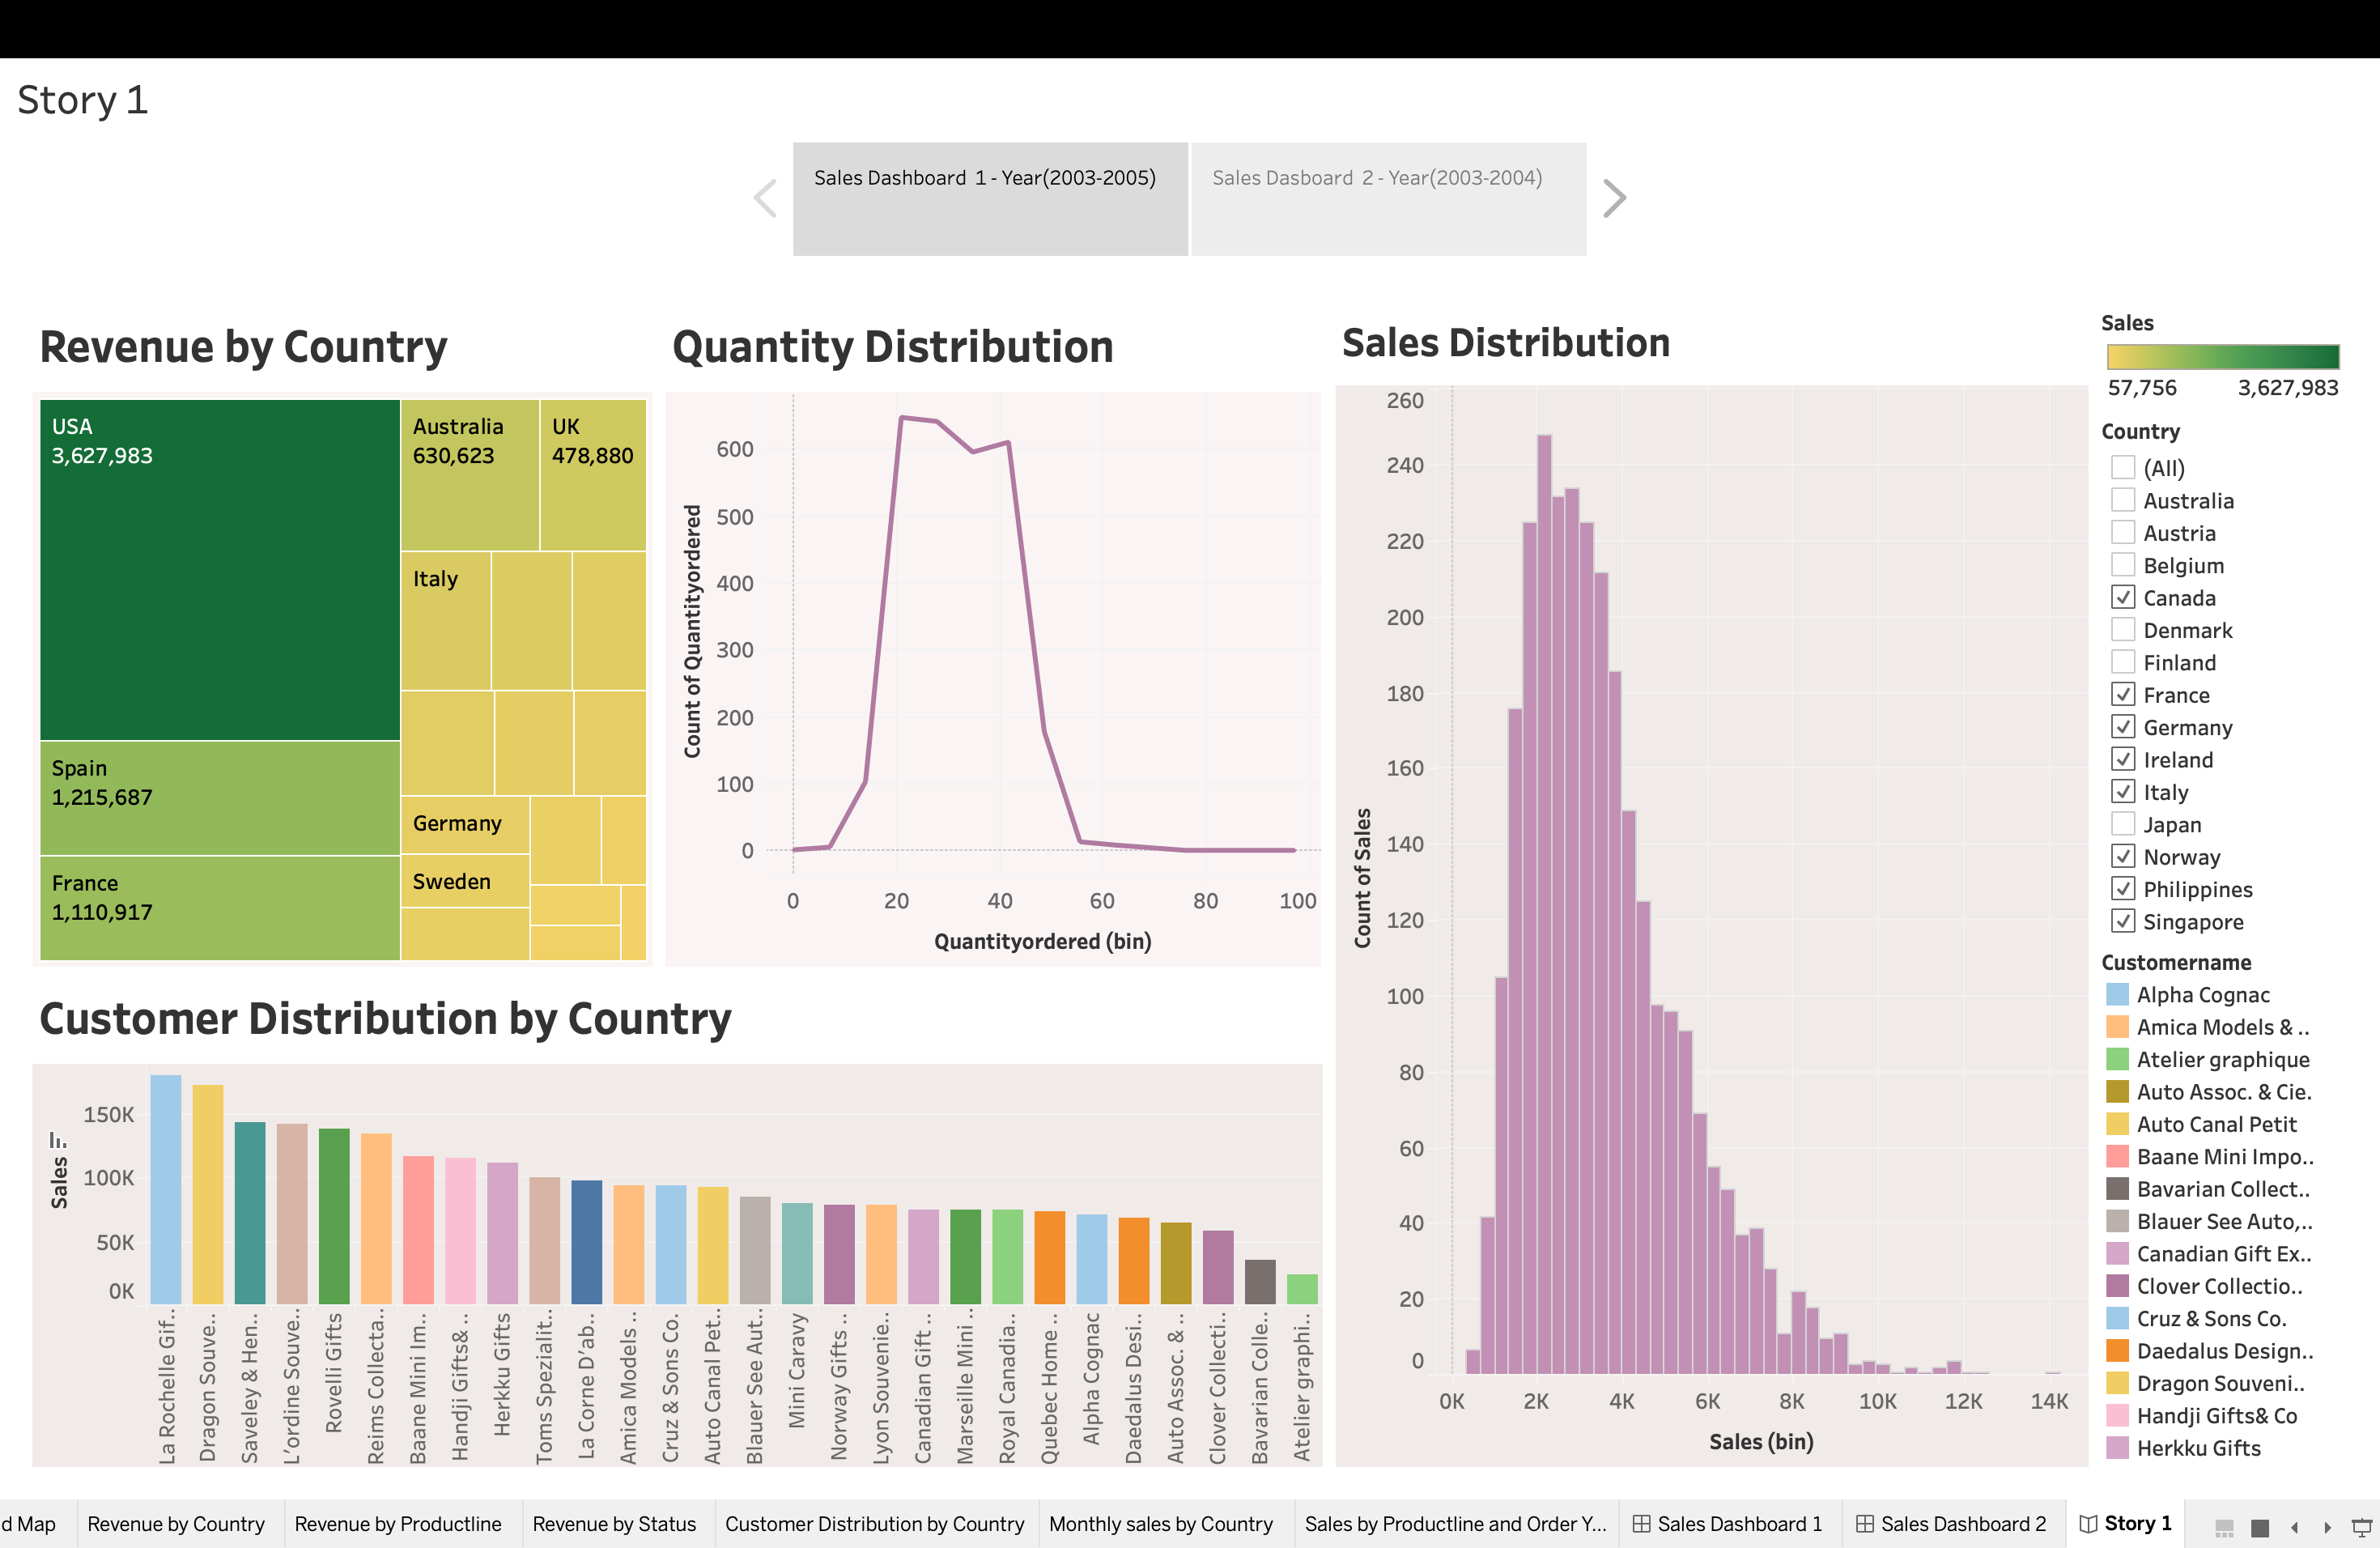

This screenshot's page, from the dashboard's own definition file:
{"tool":"tableau","page":{"name":"Sales Dashboard 1","canvas":[1000,1000],"units":"permille","ordinal":0},"visuals":[{"type":"worksheet","title":"Revenue by Country","mark":"Automatic","box":[6.3,9.7,263.7,561.6]},{"type":"worksheet","title":"Quantity Distribution","mark":"Line","rows":["QUANTITYORDERED"],"cols":["Quantityordered (bin)"],"box":[270,9.7,278.2,561.6]},{"type":"worksheet","title":"Sales Distribution","mark":"Automatic","rows":["SALES"],"cols":["Sales (bin)"],"box":[548.2,9.7,318.9,980.7]},{"type":"legend","title":"Revenue by Country","param":"[federated.02dn6az1aguj6s1end1lr0pqrlth].[sum:SALES:qk]","box":[867.1,9.7,126.6,80.9]},{"type":"filter","title":"Customer Distribution by Country","param":"[federated.02dn6az1aguj6s1end1lr0pqrlth].[none:COUNTRY:nk]","box":[867.1,90.6,126.6,449.9]},{"type":"legend","title":"Customer Distribution by Country","param":"[federated.02dn6az1aguj6s1end1lr0pqrlth].[none:CUSTOMERNAME:nk]","box":[867.1,540.5,126.6,449.9]},{"type":"worksheet","title":"Customer Distribution by Country","mark":"Automatic","rows":["SALES"],"cols":["CUSTOMERNAME"],"box":[6.3,571.3,541.9,419.1]}]}

Visuals, with their boxes on the dashboard's canvas, which has no fixed pixel size, in thousandths of its width and height (x1, y1, x2, y2). These are canvas units, not pixel positions in the 2380x1548 screenshot, which may show the page scaled, cropped or inside an application window:
"Revenue by Country" worksheet: {"left": 6, "top": 10, "right": 270, "bottom": 571}
"Quantity Distribution" worksheet (Line marks): {"left": 270, "top": 10, "right": 548, "bottom": 571}
"Sales Distribution" worksheet: {"left": 548, "top": 10, "right": 867, "bottom": 990}
"Revenue by Country" legend: {"left": 867, "top": 10, "right": 994, "bottom": 91}
"Customer Distribution by Country" filter: {"left": 867, "top": 91, "right": 994, "bottom": 540}
"Customer Distribution by Country" legend: {"left": 867, "top": 540, "right": 994, "bottom": 990}
"Customer Distribution by Country" worksheet: {"left": 6, "top": 571, "right": 548, "bottom": 990}
